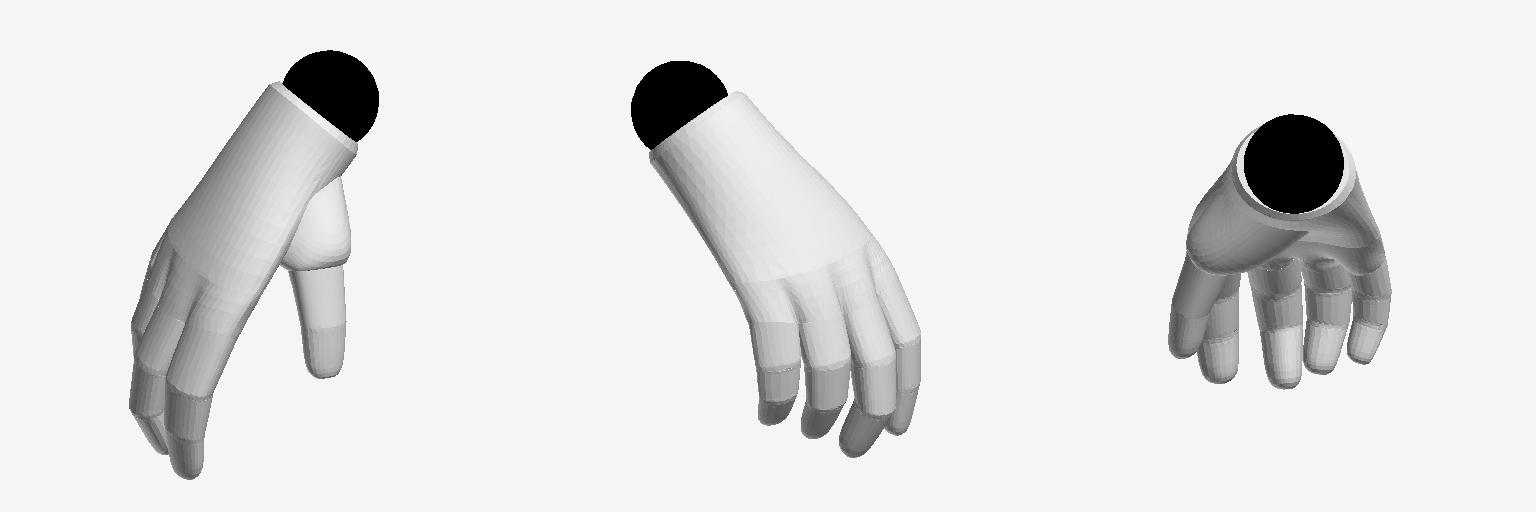
Rendered from hand.obj.
3 renders of one model, left to right at view 1: azimuth 30°, elevation 25°; view 2: azimuth 150°, elevation 25°; view 3: azimuth 270°, elevation 25°, orthographic.
Parts seen in each view (by area): view 1: Sup15; view 2: Sup15; view 3: Sup15.
Boxes of the visible parts, <box> form: Sup15: <box>129,50,378,479</box>; Sup15: <box>631,61,920,457</box>; Sup15: <box>1168,114,1391,389</box>.
Size of the model in its own units: 5.12 by 6.97 by 4.01.